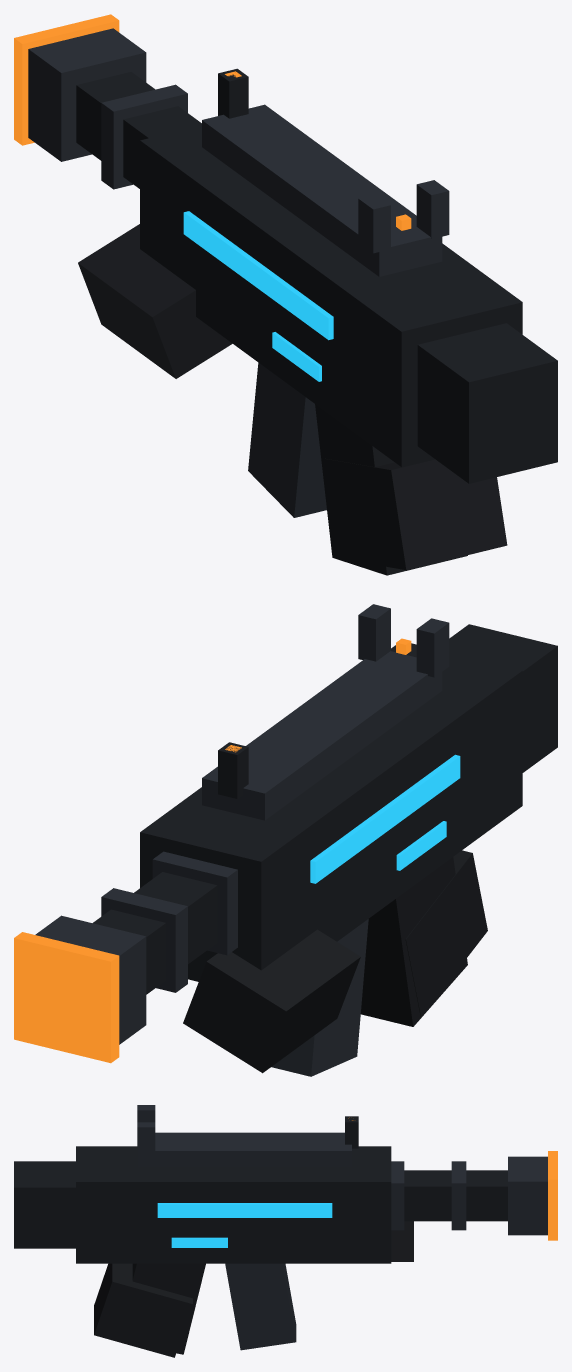
Rendered from weapon_nr01.glb.
3 views of the same model, one above another, from view 1: azimuth 30°, elevation 25°; view 2: azimuth 150°, elevation 25°; view 3: azimuth 270°, elevation 25° (orthographic). The views are drawn at different scales.
Visible parts, largest first — view 1: Receiver, Stock, Glove_Trigger, TopRail, Glove_Forend, MuzzleBrake, Magazine, Barrel, EnergyRail_L, ShroudRing_Front, Grip, MuzzleRing (+4 smaller); view 2: Receiver, TopRail, Glove_Forend, MuzzleRing, Grip, Glove_Trigger, Stock, Barrel, MuzzleBrake, Magazine, EnergyRail_L, ShroudRing_Front (+5 smaller); view 3: Receiver, TopRail, Glove_Trigger, Stock, Magazine, Barrel, MuzzleBrake, EnergyRail_R, Grip, ShroudRing_Front, ShroudRing_Rear, MuzzleRing (+5 smaller).
Boxes of the visible parts, box(x1,y1,x2,y2) form: Receiver: box(140, 125, 522, 466); Stock: box(417, 323, 557, 483); Glove_Trigger: box(324, 458, 507, 570); TopRail: box(202, 104, 442, 276); Glove_Forend: box(78, 224, 232, 378); MuzzleBrake: box(28, 28, 146, 161); Magazine: box(248, 362, 326, 517); Barrel: box(76, 72, 201, 188); EnergyRail_L: box(183, 211, 333, 340); ShroudRing_Front: box(101, 84, 187, 189); Grip: box(315, 404, 467, 575); MuzzleRing: box(14, 14, 119, 145); Receiver: box(140, 643, 522, 981); TopRail: box(202, 651, 442, 820); Glove_Forend: box(183, 929, 360, 1073); MuzzleRing: box(14, 932, 119, 1063); Grip: box(360, 857, 467, 1026); Glove_Trigger: box(405, 850, 487, 1016); Stock: box(449, 624, 557, 772); Barrel: box(92, 872, 217, 994); MuzzleBrake: box(35, 915, 146, 1044); Magazine: box(271, 919, 368, 1076); EnergyRail_L: box(310, 754, 460, 883); ShroudRing_Front: box(101, 888, 187, 992); Receiver: box(76, 1146, 391, 1263); TopRail: box(138, 1132, 351, 1167); Glove_Trigger: box(94, 1263, 192, 1357); Stock: box(14, 1161, 75, 1248); Magazine: box(225, 1263, 296, 1350); Barrel: box(404, 1170, 507, 1221); MuzzleBrake: box(508, 1156, 547, 1235); EnergyRail_R: box(157, 1203, 332, 1217); Grip: box(132, 1263, 205, 1354); ShroudRing_Front: box(451, 1161, 466, 1230); ShroudRing_Rear: box(391, 1161, 404, 1230); MuzzleRing: box(548, 1151, 557, 1240).
Bounding box in the file's own units: 0.2104 × 0.4441 × 0.966.
